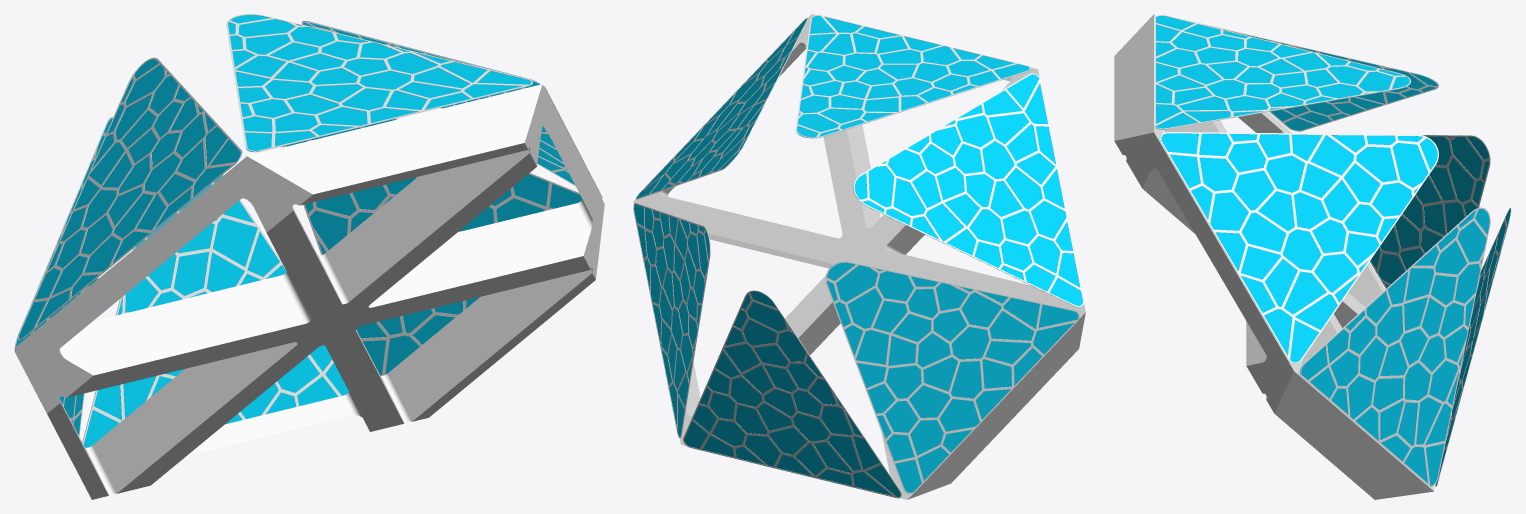
The model's file is Nets.fbx.
3 renders of one model, left to right at view 1: azimuth 30°, elevation 25°; view 2: azimuth 150°, elevation 25°; view 3: azimuth 270°, elevation 25°, orthographic. The views are drawn at different scales.
Visible parts, largest first — view 1: 物件_8, 物件_9, 物件_14, 物件_10, 物件_13, 物件_5, 物件_1, 物件_7, 物件_4, 物件_12, 物件_6, 物件_11 (+1 smaller); view 2: 物件_11, 物件_14, 物件_8, 物件_10, 物件_9, 物件_13, 物件_3, 物件_1, 物件_12, 物件_7, 物件_5, 物件_4 (+1 smaller); view 3: 物件_12, 物件_8, 物件_13, 物件_9, 物件_6, 物件_11, 物件_4, 物件_5, 物件_14, 物件_10, 物件_3, 物件_1 (+1 smaller).
Boxes of the visible parts, x1,y1,x2,y2 form: 物件_8: (14, 84, 604, 499); 物件_9: (226, 15, 533, 151); 物件_14: (19, 59, 242, 340); 物件_10: (83, 175, 348, 447); 物件_13: (286, 119, 582, 375); 物件_5: (226, 14, 532, 152); 物件_1: (17, 57, 242, 340); 物件_7: (82, 174, 341, 444); 物件_4: (282, 118, 579, 375); 物件_12: (303, 21, 591, 184); 物件_6: (301, 21, 602, 198); 物件_11: (15, 118, 112, 434); 物件_11: (827, 261, 1078, 492); 物件_14: (853, 73, 1082, 307); 物件_8: (633, 14, 1085, 499); 物件_10: (684, 291, 900, 496); 物件_9: (795, 15, 1030, 138); 物件_13: (634, 204, 710, 437); 物件_3: (825, 261, 1079, 493); 物件_1: (853, 73, 1083, 307); 物件_12: (637, 19, 807, 198); 物件_7: (683, 290, 901, 498); 物件_5: (796, 15, 1030, 138); 物件_4: (633, 203, 710, 437); 物件_12: (1161, 133, 1437, 363); 物件_8: (1114, 14, 1434, 499); 物件_13: (1300, 207, 1489, 486); 物件_9: (1154, 16, 1411, 129); 物件_6: (1159, 132, 1438, 363); 物件_11: (1370, 135, 1490, 287); 物件_4: (1299, 207, 1490, 486); 物件_5: (1154, 15, 1410, 129); 物件_14: (1235, 32, 1438, 130); 物件_10: (1436, 209, 1511, 485); 物件_3: (1370, 135, 1490, 288); 物件_1: (1164, 15, 1438, 131).
Bounding box in the file's own units: 400 × 284 × 284.
